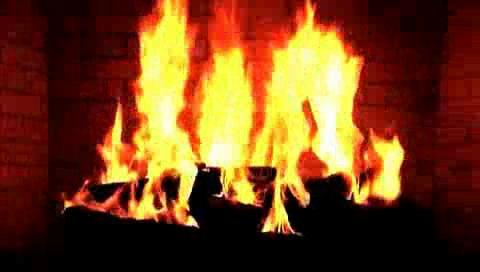fire: (108, 20, 393, 219)
